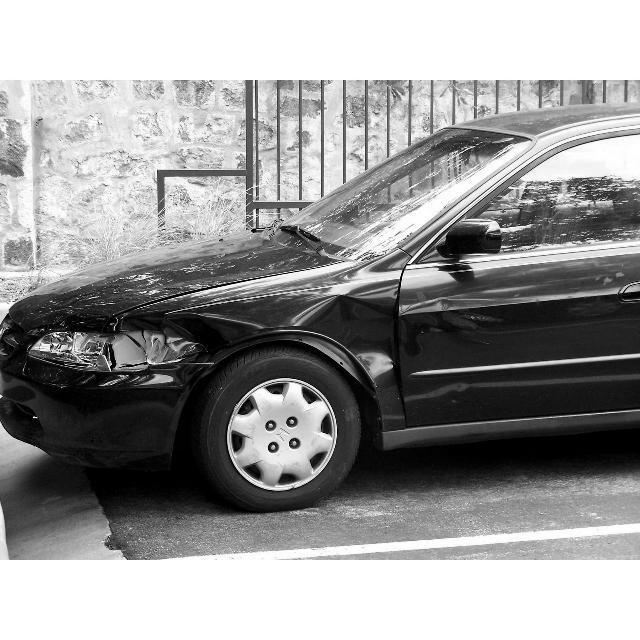Headlight-damage: (13, 297, 192, 394)
bonnet-dent: (33, 217, 344, 305)
doorouter-dent: (400, 268, 624, 436)
fender-dent: (158, 265, 400, 437)
